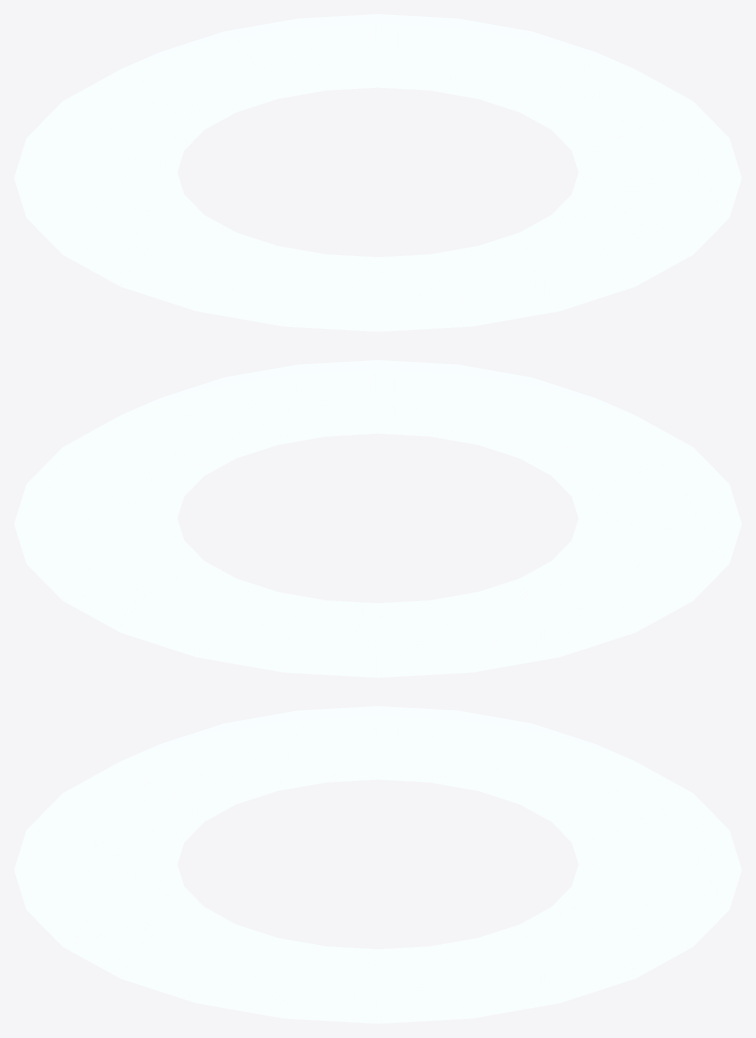
File: vfx_ring_cyan.glb
3 views of the same model, one above another, from view 1: azimuth 30°, elevation 25°; view 2: azimuth 150°, elevation 25°; view 3: azimuth 270°, elevation 25° (orthographic).
Parts seen in each view (by area): view 1: VfxRoot; view 2: VfxRoot; view 3: VfxRoot.
Boxes of the visible parts, <box> form: VfxRoot: <box>14,14,741,331</box>; VfxRoot: <box>14,360,741,677</box>; VfxRoot: <box>14,706,741,1023</box>.
Size of the model in its own units: 2.36 by 0.12 by 2.36.
